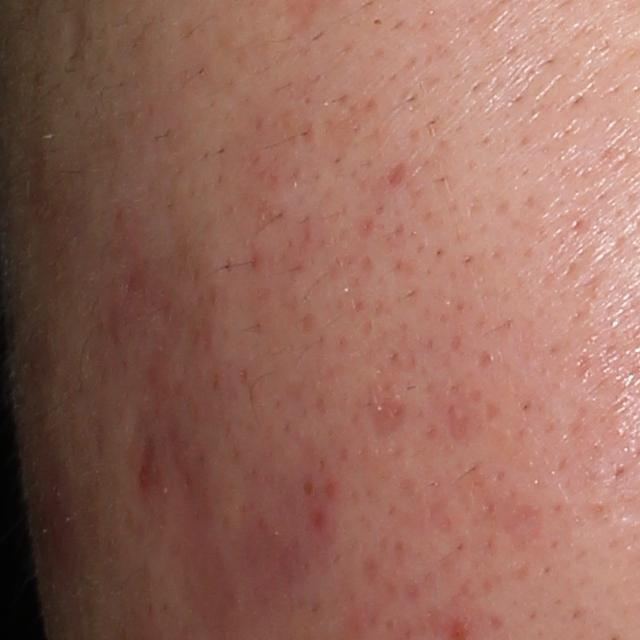atrophic_scar: (237, 439, 345, 615), (166, 454, 246, 636), (124, 413, 168, 518), (386, 160, 410, 190)
comedo: (296, 479, 317, 501)
